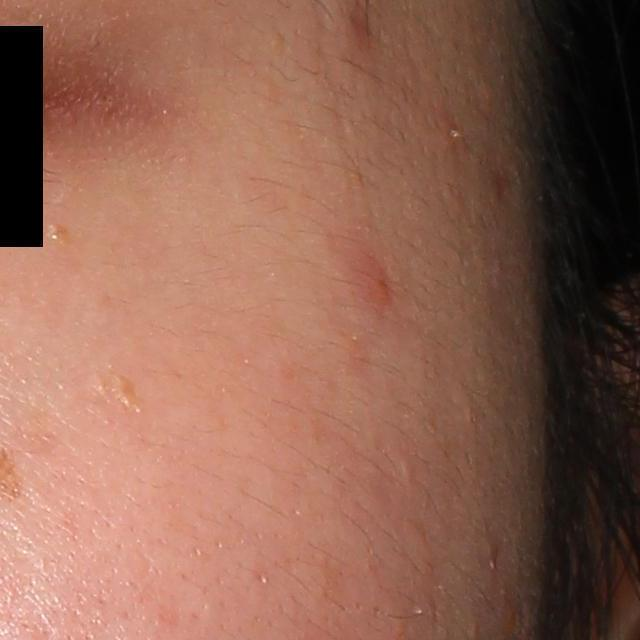melasma: (114, 370, 143, 410)
